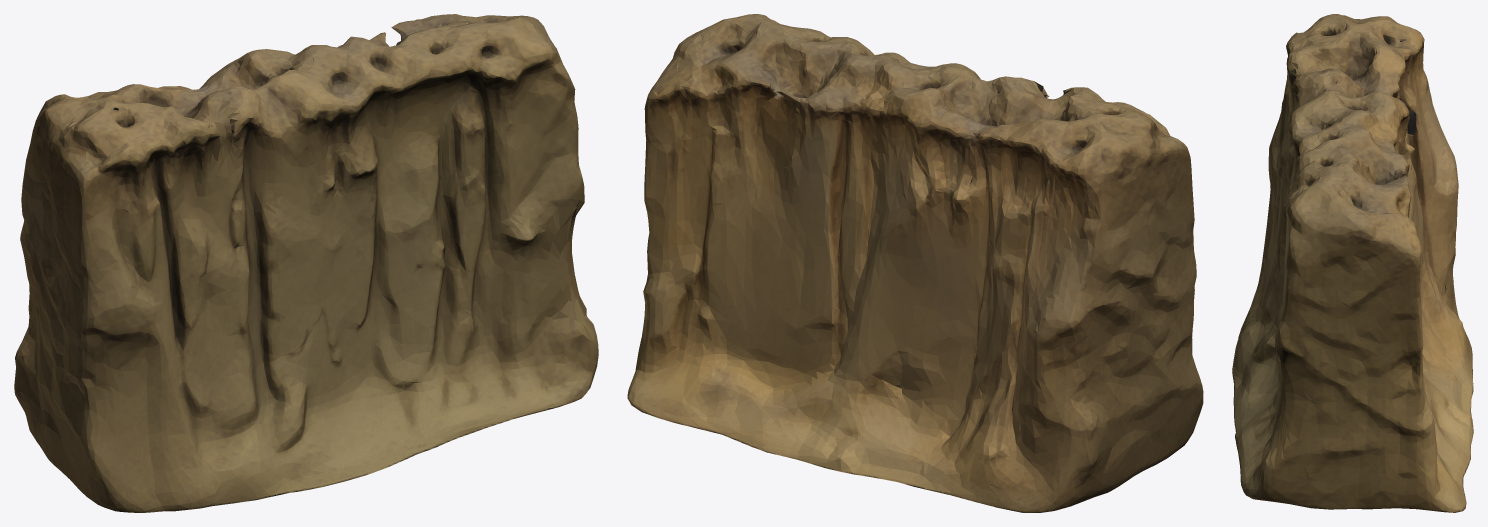
The picture shows the model from 3 angles, left to right: view 1: azimuth 30°, elevation 25°; view 2: azimuth 150°, elevation 25°; view 3: azimuth 270°, elevation 25°; orthographic projection. The views are drawn at different scales.
Visible parts, largest first — view 1: world; view 2: world; view 3: world.
Part boxes in pixels (<box>): world: <box>14,14,598,512</box>; world: <box>627,14,1203,512</box>; world: <box>1232,14,1473,512</box>.
Bounding box in the file's own units: 0.9974 × 0.704 × 0.4829.
Materials: 1 (1 with a texture image).
